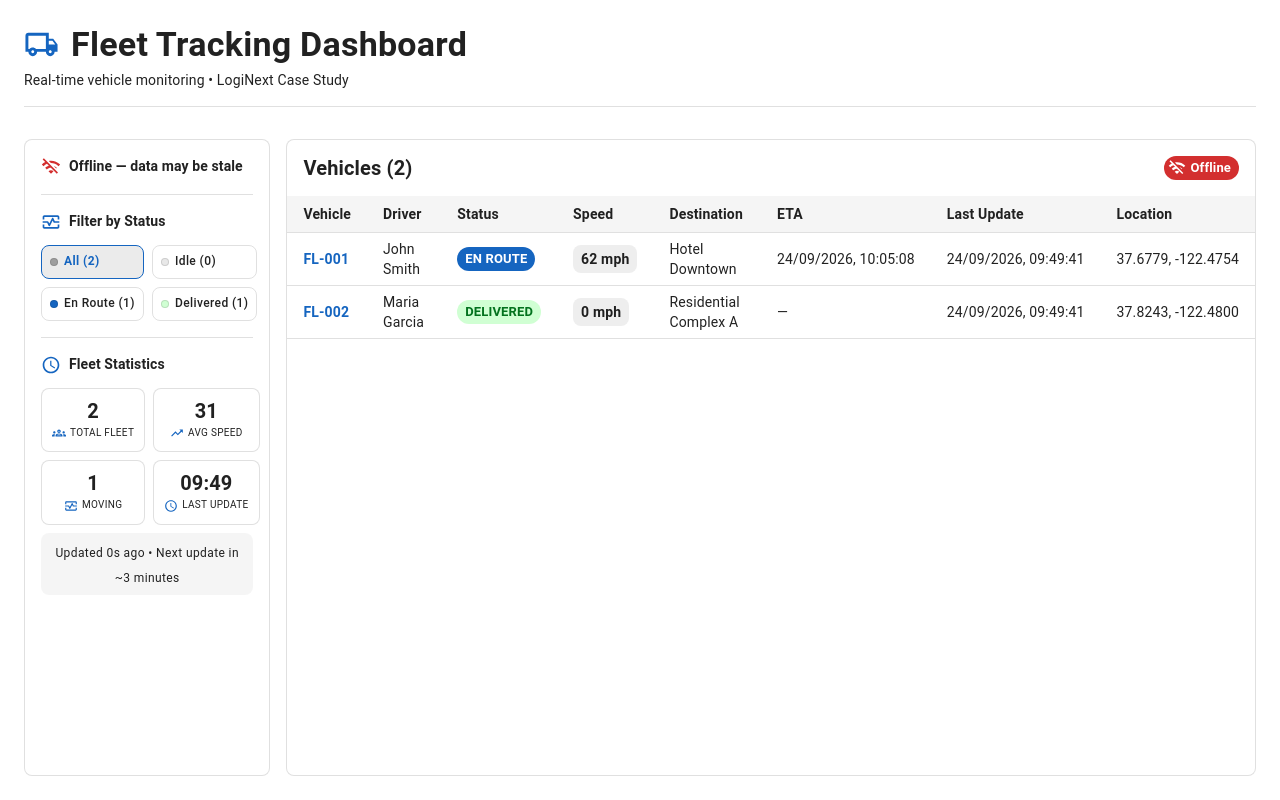
Test: VehicleDetailModal › opens with the selected vehicle fields on row click, and closes via the close button
Click the text "FL-001": point(327, 260) [287,233,367,286]
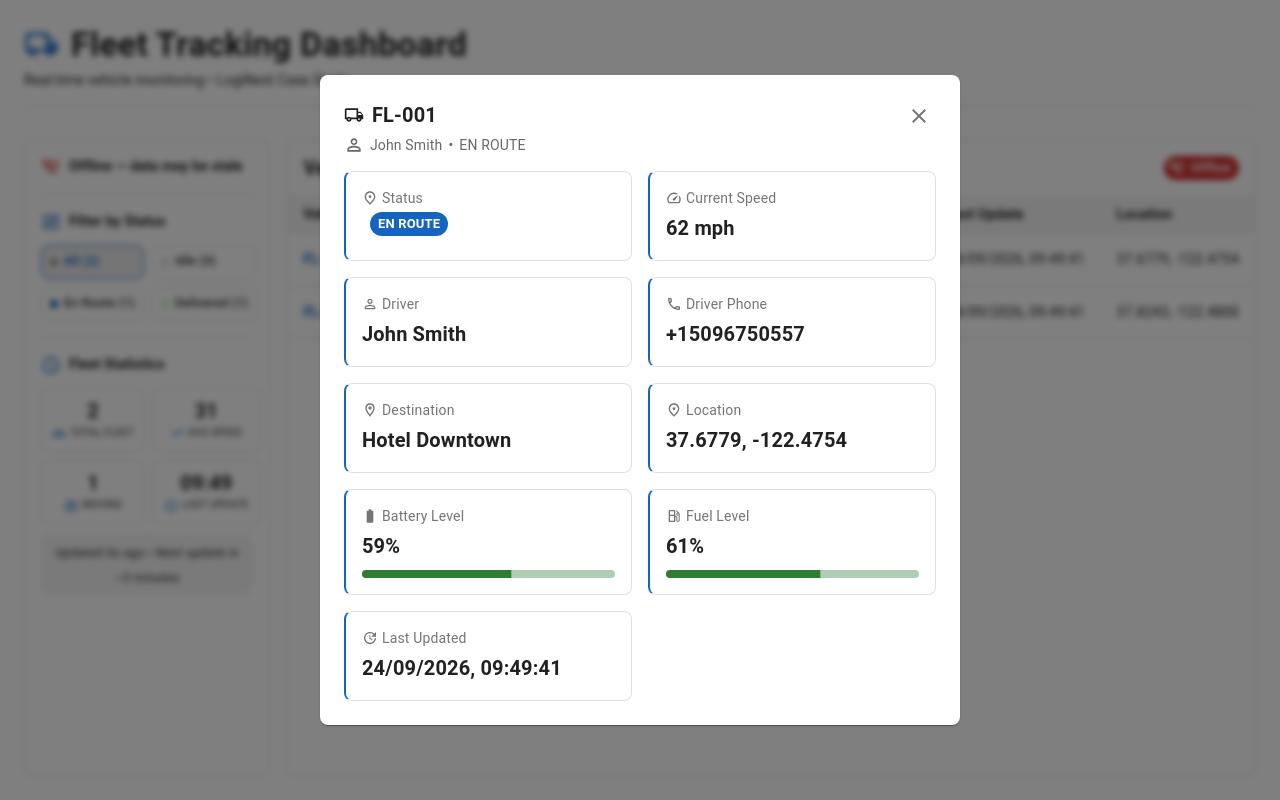
Now the 1st text "EN ROUTE" is shown, box [459,135,526,155]
Now the heading "62 mph" is shown, box [666,212,735,244]
Now the text "John Smith" is shown, box [370,135,442,155]
Click the button named "Close": point(919, 116) [902,99,936,133]
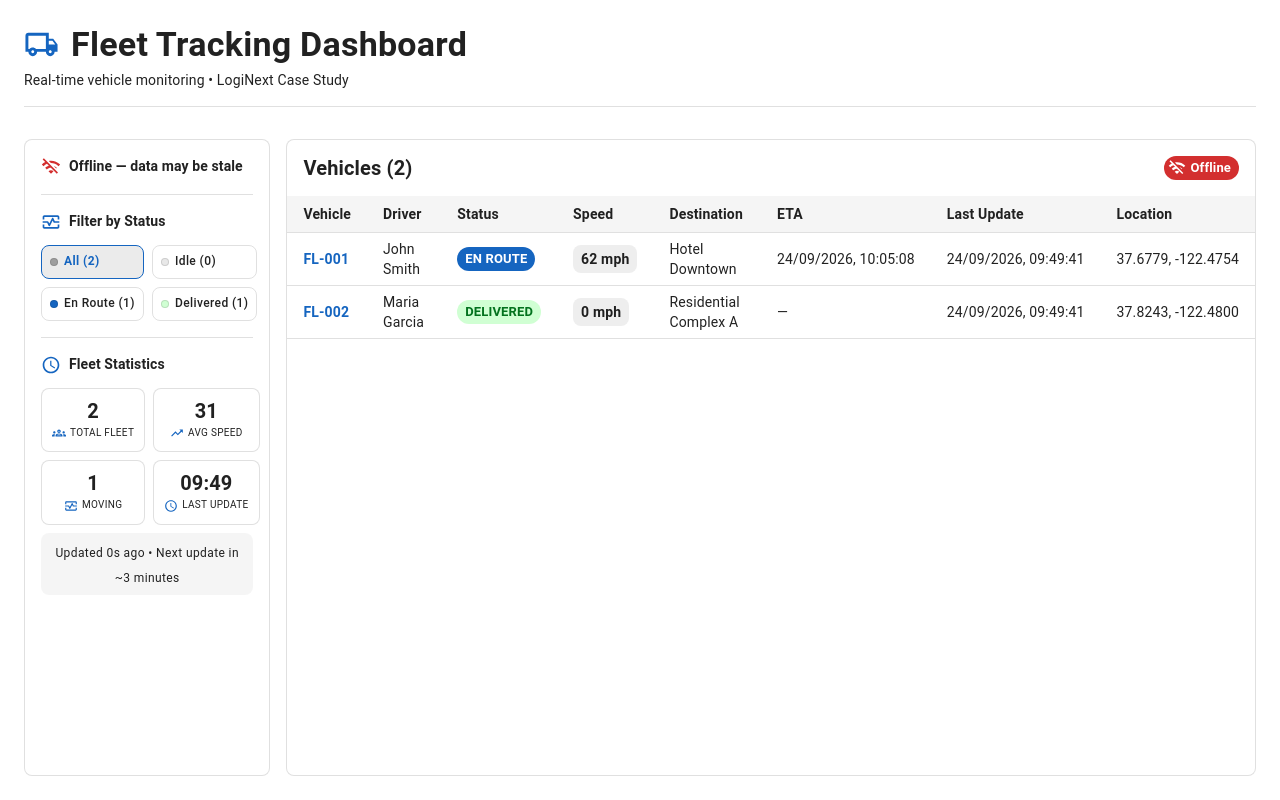
Expected: the heading "Vehicles (2)" is shown, [303,152,412,184]
Now the dialog is gone
